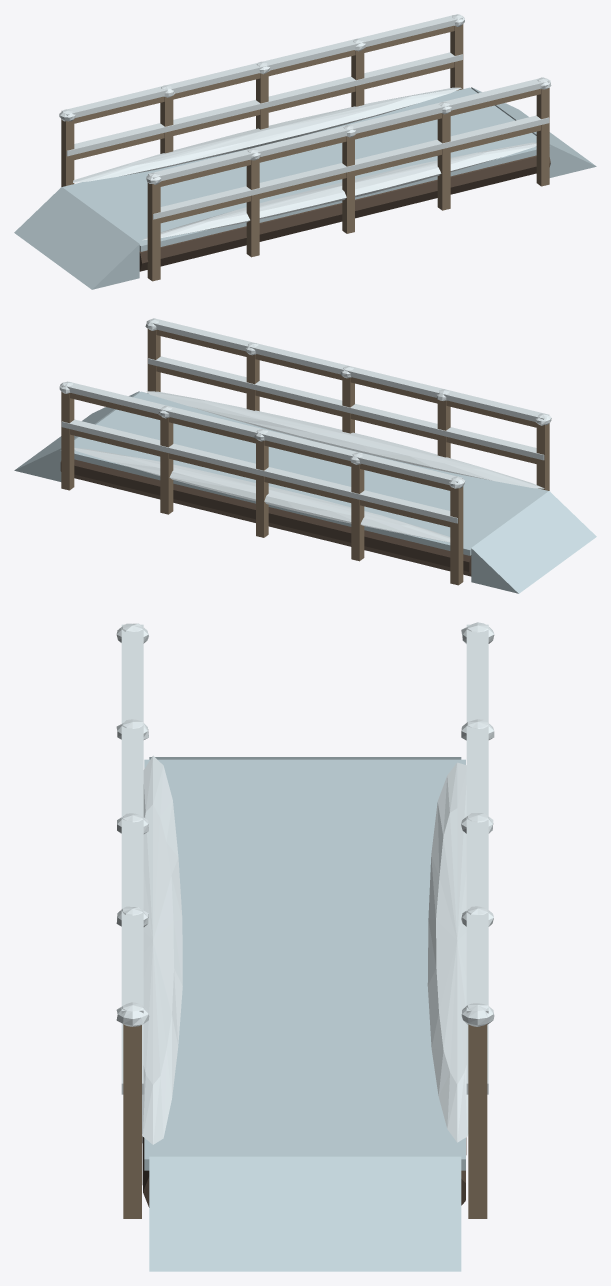
The model's file is PROP_07_LogBridgeSnowy.glb.
3 views of the same model, one above another, from view 1: azimuth 30°, elevation 25°; view 2: azimuth 150°, elevation 25°; view 3: azimuth 270°, elevation 25° (orthographic). The views are drawn at different scales.
Parts seen in each view (by area): view 1: PROP_07_LogBridgeSnowy; view 2: PROP_07_LogBridgeSnowy; view 3: PROP_07_LogBridgeSnowy.
Part boxes in pixels (x1=…): PROP_07_LogBridgeSnowy: x1=14, y1=14, x2=596, y2=289; PROP_07_LogBridgeSnowy: x1=14, y1=318, x2=596, y2=593; PROP_07_LogBridgeSnowy: x1=116, y1=622, x2=494, y2=1271.
Size of the model in its own units: 7.4 by 1.47 by 2.4.
